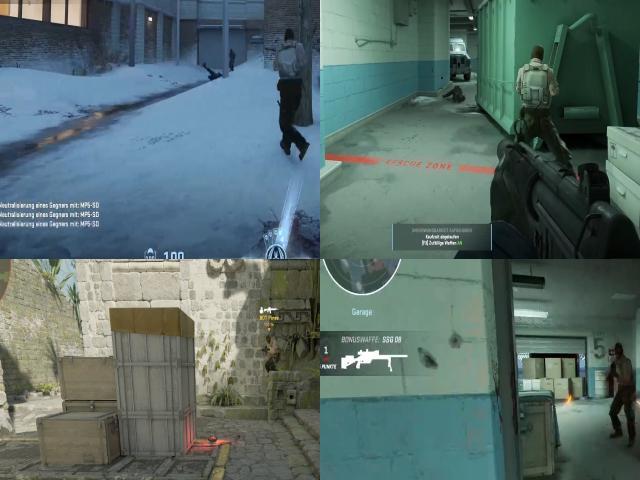Bomb: (206, 431, 220, 450)
CT: (225, 46, 238, 72)
CT-Head: (230, 48, 236, 56)
Dead: (444, 82, 471, 109)
T: (514, 48, 556, 128), (266, 33, 312, 104), (612, 348, 636, 402), (260, 332, 284, 378)
T-Head: (522, 39, 548, 68), (609, 340, 630, 368), (280, 28, 300, 52), (264, 334, 273, 344)
